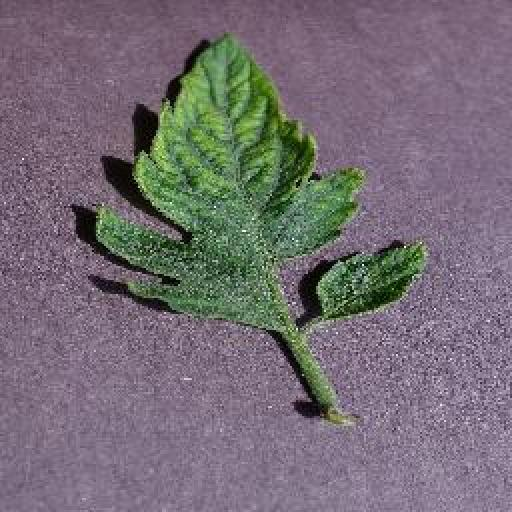disease_tomato: (96, 34, 426, 332)
